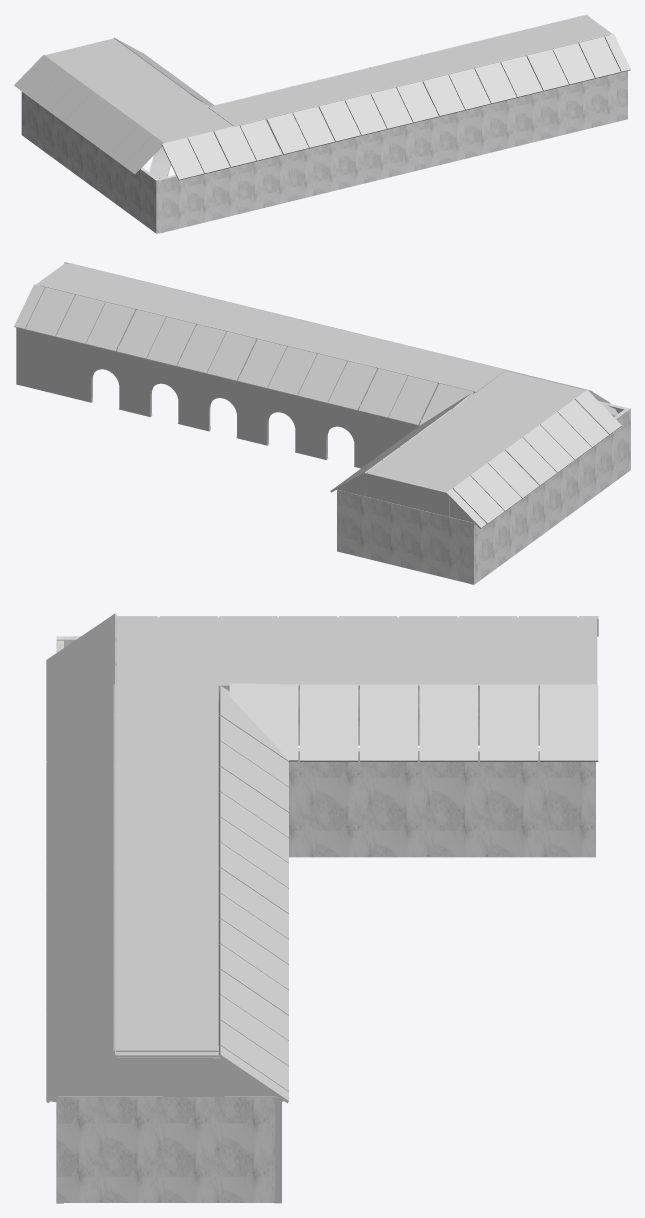
File: Building 1.fbx
The picture shows the model from 3 angles, top to bottom: view 1: azimuth 30°, elevation 25°; view 2: azimuth 150°, elevation 25°; view 3: azimuth 270°, elevation 25°; orthographic projection. The views are drawn at different scales.
Visible parts, largest first — view 1: Cube_2_3, Cube_54, Cube_53, Cube_1_2, Cube_12, Cube_14_2, Cube_16, Cube_6, Cube_10, Cube_7, Cube_5, Cube_1 (+19 smaller); view 2: Cube_2_4, Cube_54, Cube_53, Cube_1_2, Cube_3_2, Cube_52_2, Cube_20, Cube_33, Cube_28, Cube_24, Cube_26, Cube_31 (+17 smaller); view 3: Cube_54, Cube_53, Cube_3_3, Cube_4_2, Cube_40, Cube_39, Cube_38, Cube_36, Cube_37, Cube_52, Cube_41, Cube_13 (+34 smaller).
Part boxes in pixels (x1,y1,x2,y2): Cube_2_3: [159, 71, 627, 233]; Cube_54: [208, 15, 609, 126]; Cube_53: [45, 38, 233, 142]; Cube_1_2: [21, 92, 159, 233]; Cube_12: [213, 125, 256, 167]; Cube_14_2: [161, 137, 204, 180]; Cube_16: [578, 36, 620, 78]; Cube_6: [474, 61, 516, 103]; Cube_10: [267, 112, 308, 154]; Cube_7: [500, 55, 542, 97]; Cube_5: [552, 42, 594, 84]; Cube_1: [423, 74, 464, 116]; Cube_2_4: [16, 325, 421, 468]; Cube_54: [39, 263, 505, 393]; Cube_53: [365, 371, 585, 494]; Cube_1_2: [470, 407, 630, 584]; Cube_3_2: [340, 490, 470, 583]; Cube_52_2: [365, 475, 449, 516]; Cube_20: [207, 331, 256, 381]; Cube_33: [26, 287, 75, 336]; Cube_28: [328, 361, 377, 410]; Cube_24: [86, 302, 135, 351]; Cube_26: [146, 317, 196, 366]; Cube_31: [358, 368, 408, 418]; Cube_54: [113, 684, 218, 1051]; Cube_53: [117, 617, 597, 688]; Cube_3_3: [289, 748, 595, 857]; Cube_4_2: [58, 1096, 275, 1202]; Cube_40: [300, 684, 358, 761]; Cube_39: [480, 684, 538, 761]; Cube_38: [540, 684, 598, 761]; Cube_36: [419, 684, 477, 761]; Cube_37: [360, 684, 417, 761]; Cube_52: [110, 1057, 224, 1096]; Cube_41: [229, 683, 298, 761]; Cube_13: [46, 689, 115, 761].
Bounding box in the file's own units: 3796 × 572 × 1895.
Materials: 1 (1 with a texture image).
